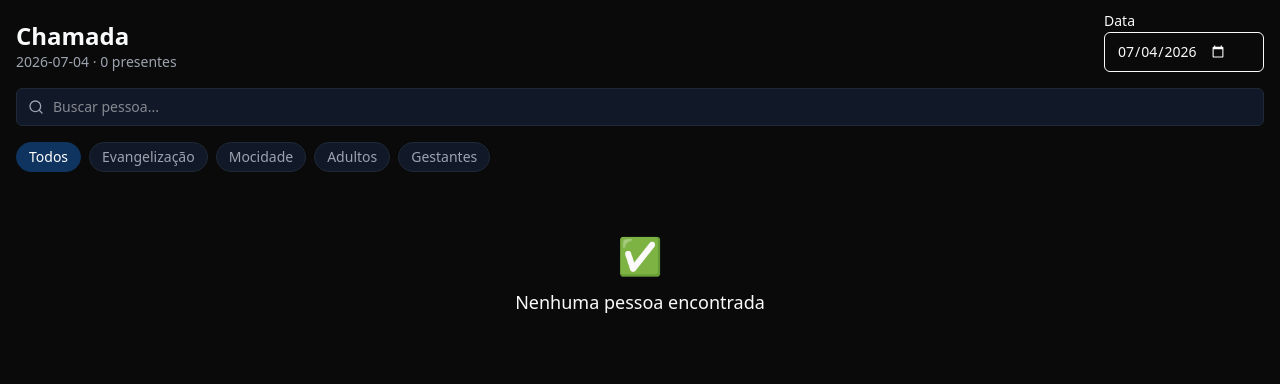
Test case: ChamadaPage — data retroativa › trocar pra data passada mostra banner retroativo
Step 1. Type "2026-06-20" into the date field labelled "Data" → point(1184, 52), box [1104, 32, 1264, 72]
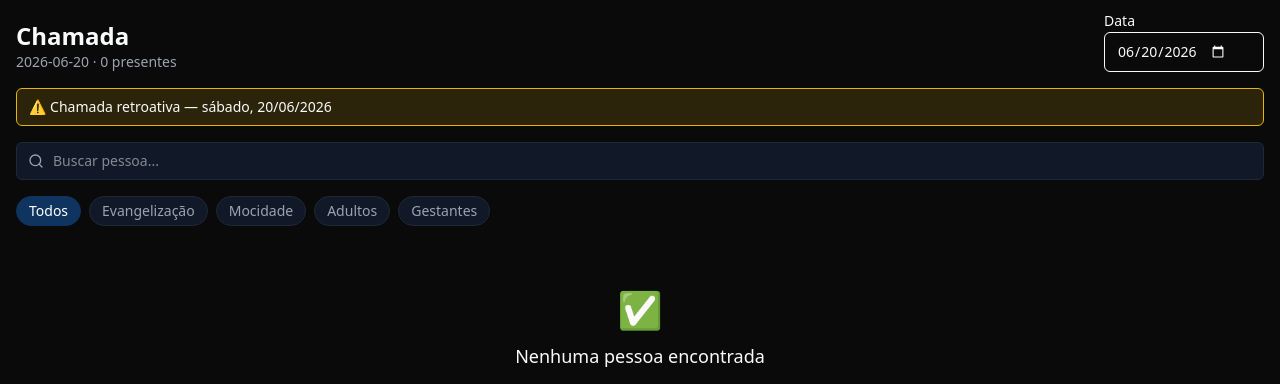
Expected: the text "retroativa" is shown, [29, 97, 202, 116]
Expected: the text "20/06/2026" is shown, [202, 97, 332, 116]
